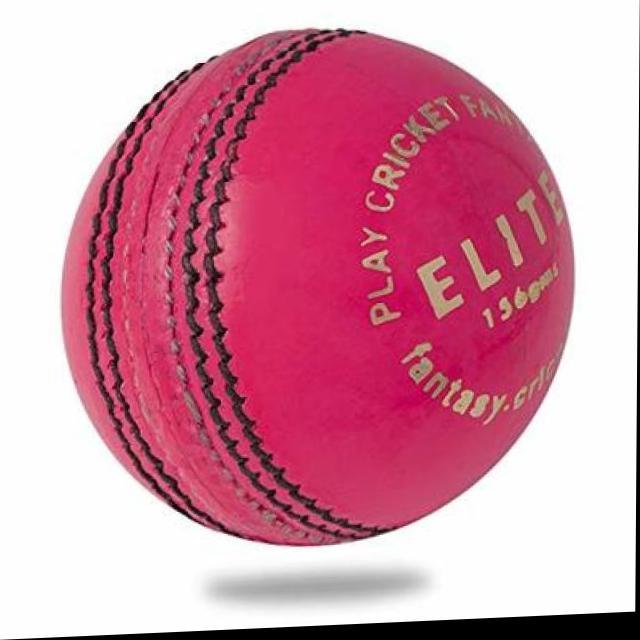cricket ball: (62, 30, 575, 550)
